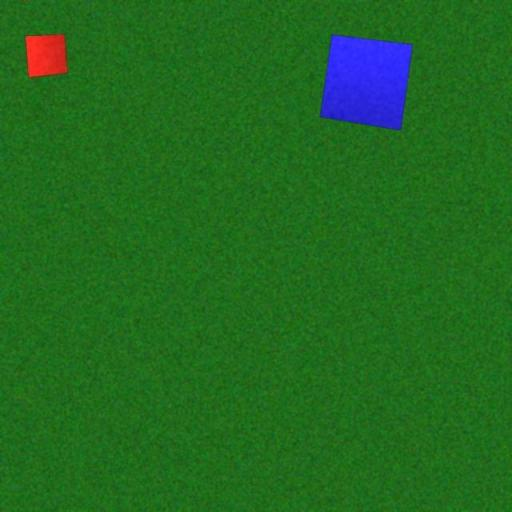BLUE_SQUARE: (319, 34, 413, 132)
RED_SQUARE: (25, 34, 68, 78)
